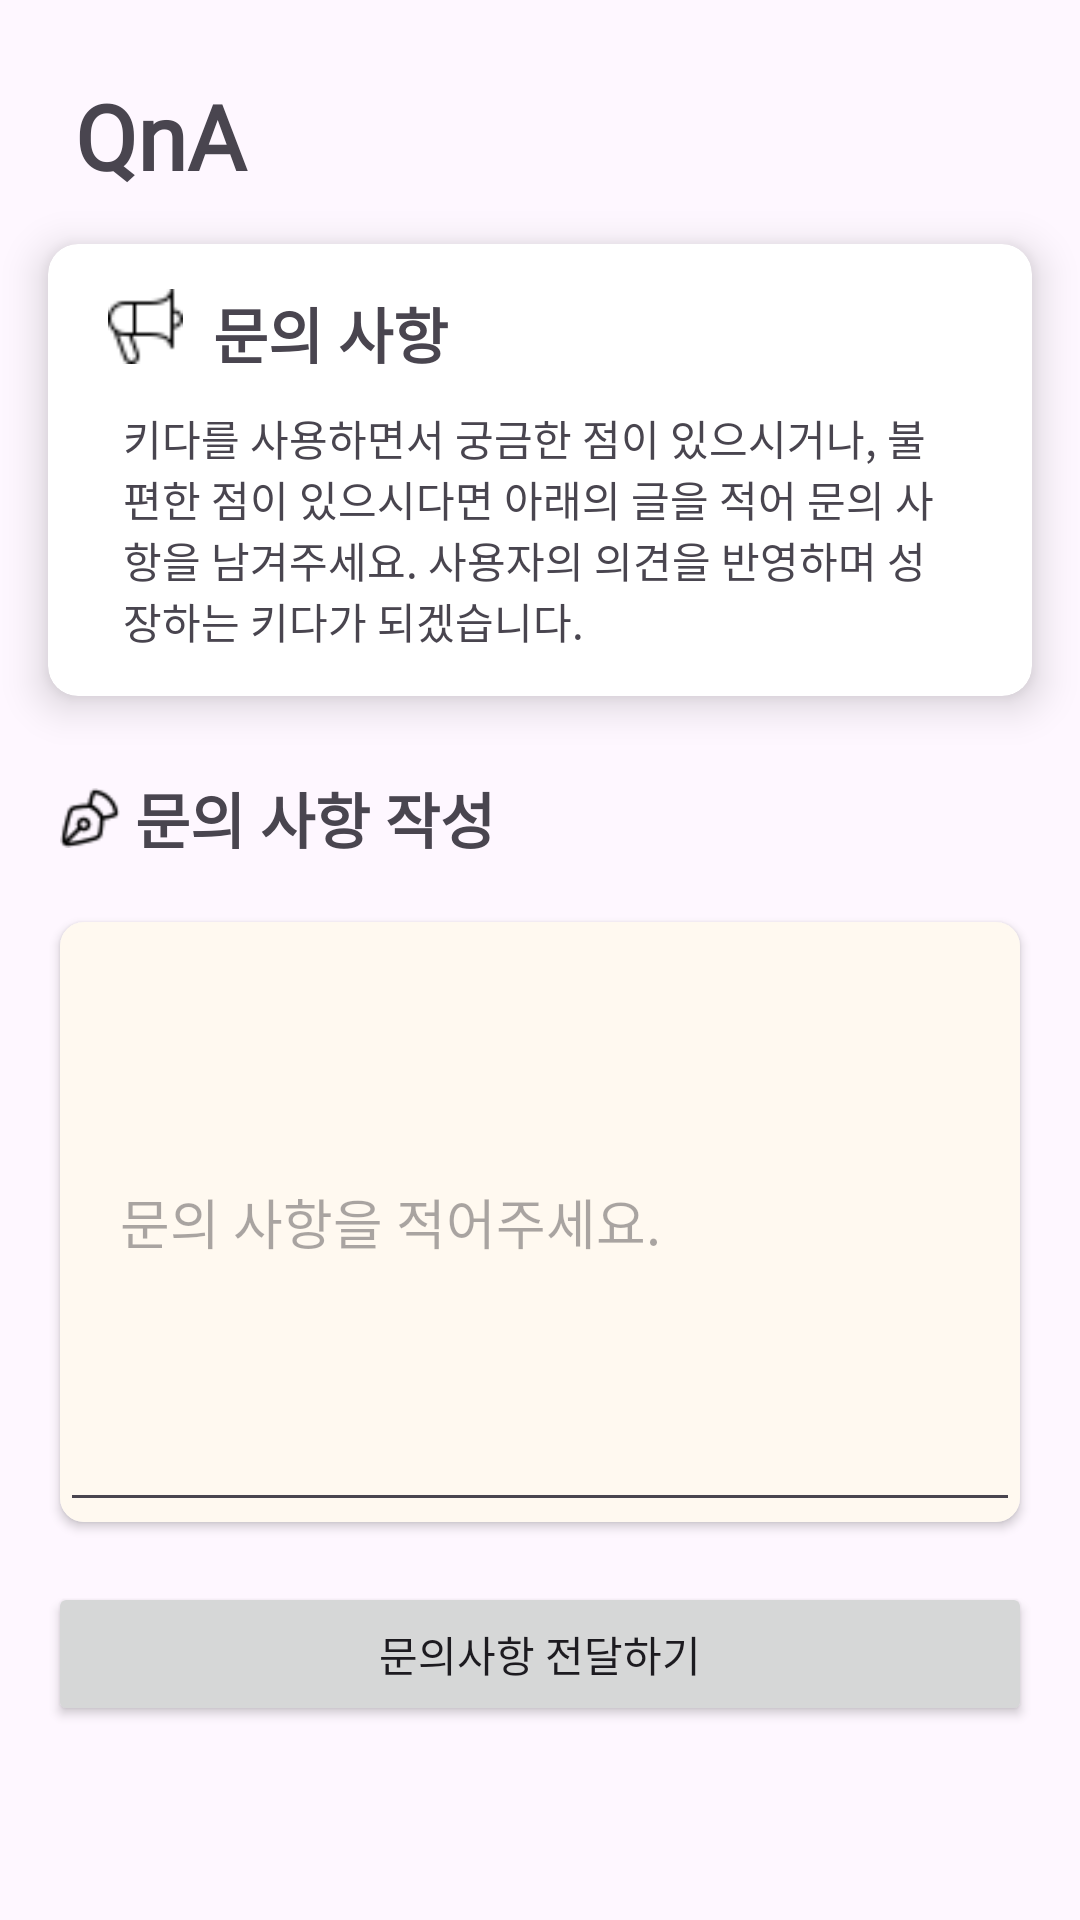

Named icons in this screenshot (1080*1920) and their centers, (x=x, y=y):
pen: (x=89, y=818)
